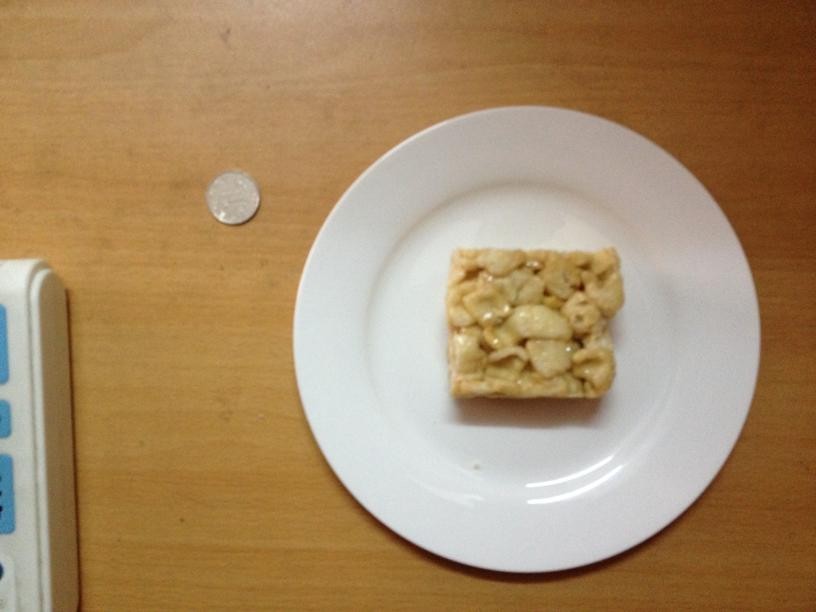coin: (204, 170, 260, 223)
sachima: (443, 245, 623, 400)
